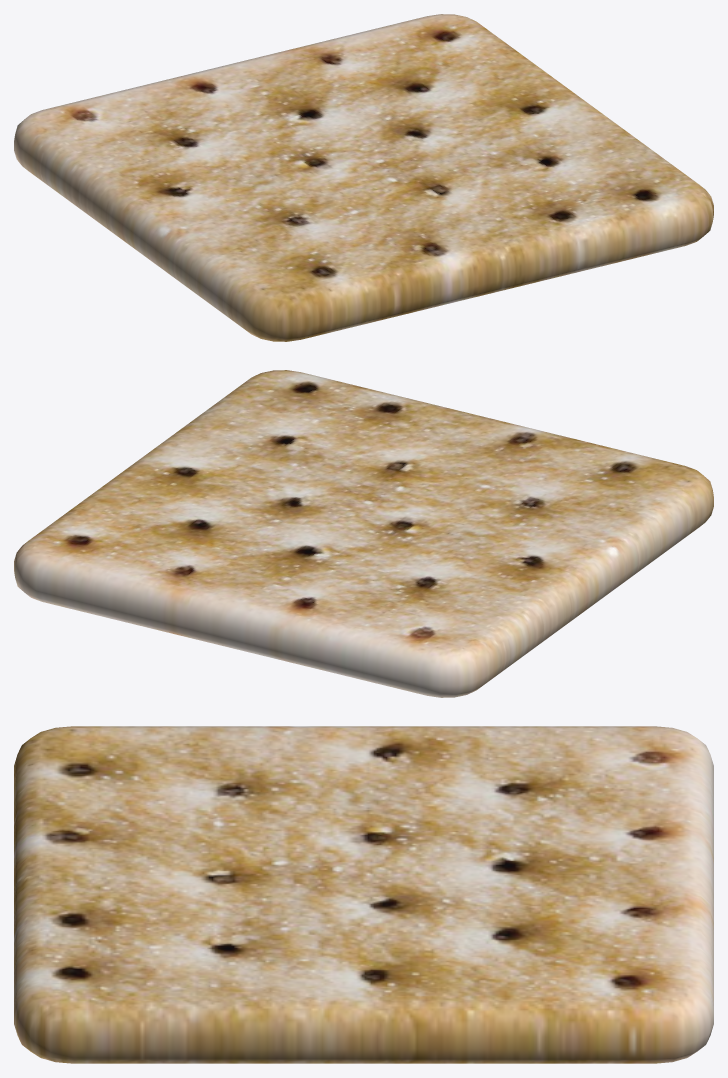
Rendered from candy_waf_10.fbx.
The picture shows the model from 3 angles, top to bottom: view 1: azimuth 30°, elevation 25°; view 2: azimuth 150°, elevation 25°; view 3: azimuth 270°, elevation 25°; orthographic projection. The views are drawn at different scales.
Visible parts, largest first — view 1: c_w_10; view 2: c_w_10; view 3: c_w_10.
Boxes of the visible parts, box(x1,y1,x2,y2) form: c_w_10: box(14, 14, 713, 341); c_w_10: box(14, 370, 713, 697); c_w_10: box(14, 726, 713, 1063).
Size of the model in its own units: 179 by 16.67 by 179.
